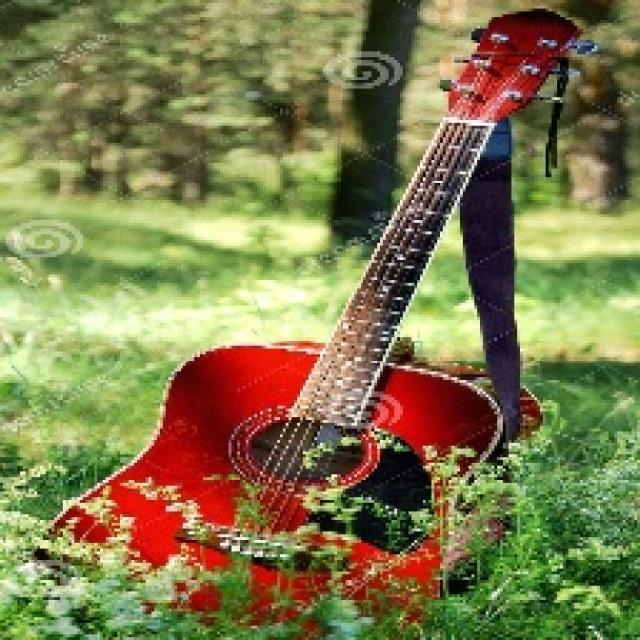acousticguitar: (55, 10, 577, 600)
